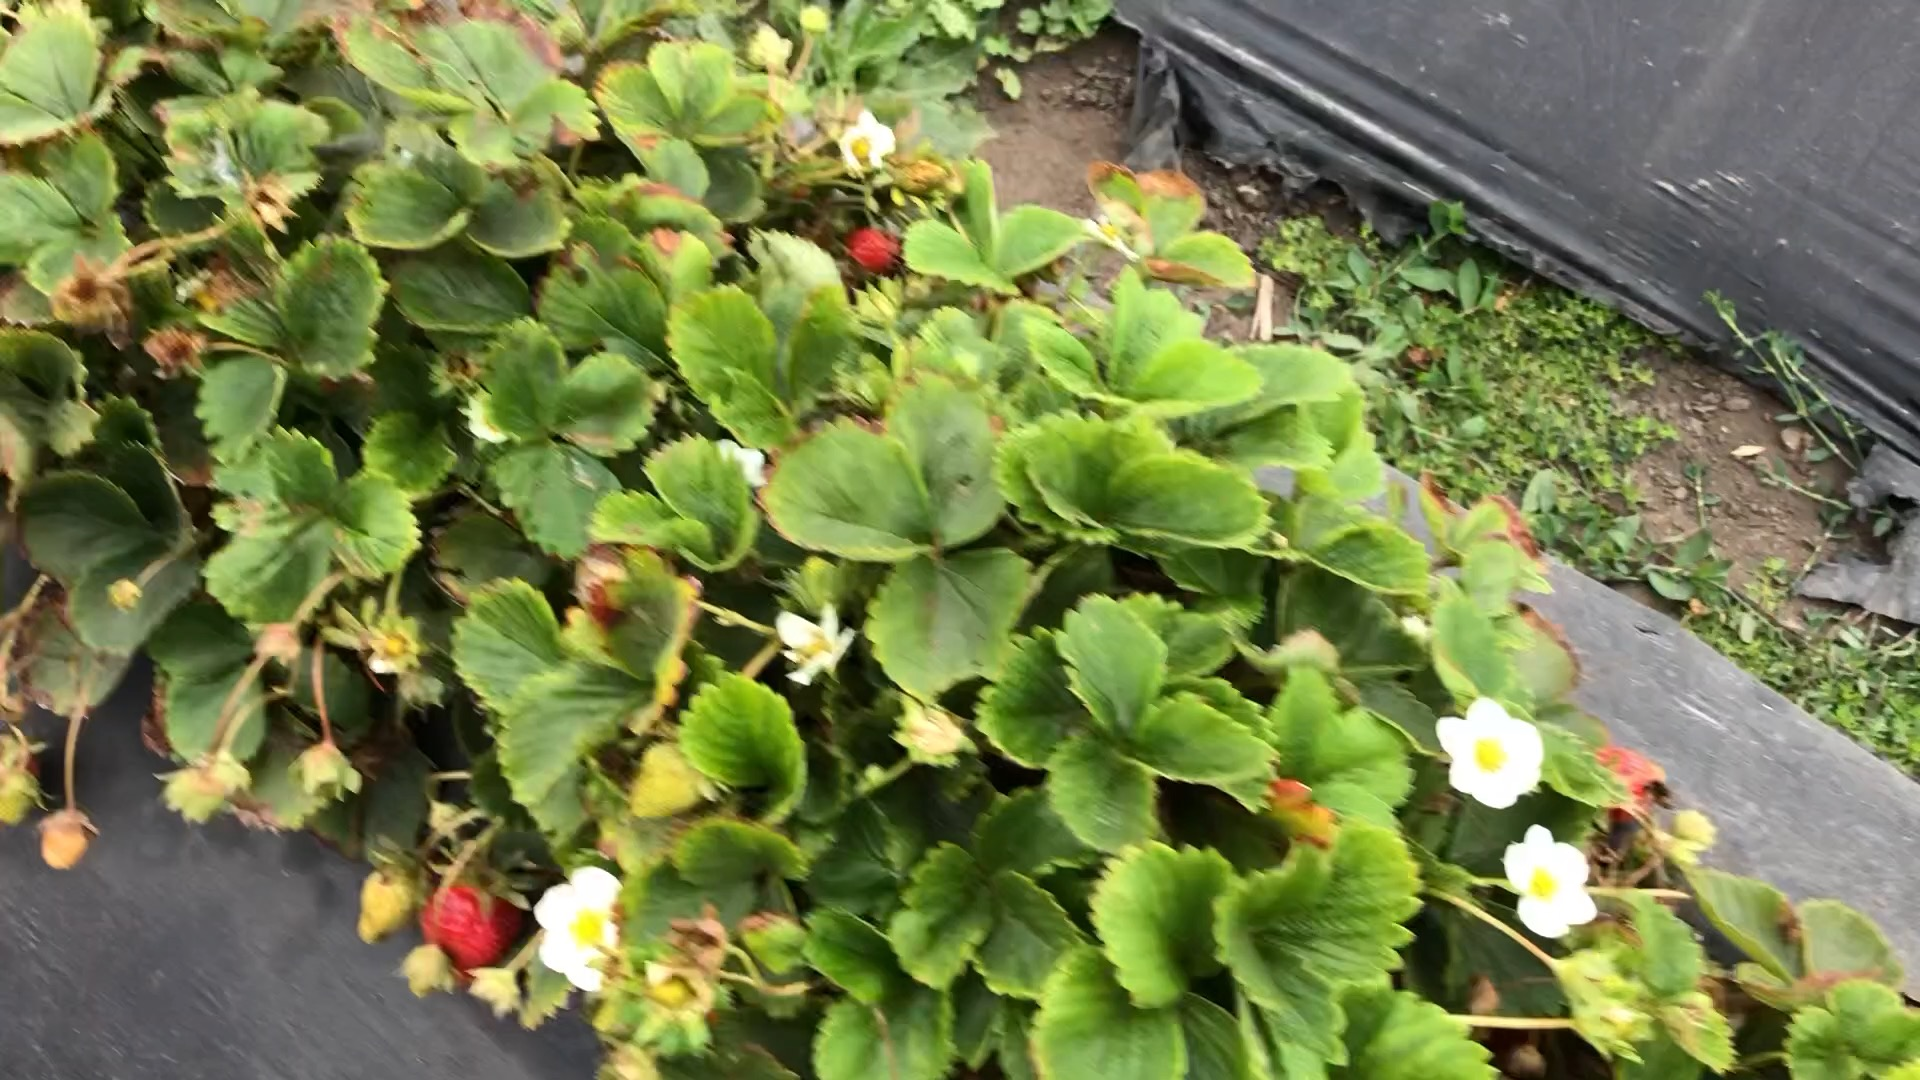ripe_strawberry: (418, 877, 529, 990), (1594, 742, 1669, 822), (847, 225, 909, 276)
unripe_strawberry: (629, 733, 719, 819), (353, 851, 423, 945), (36, 810, 99, 873), (1, 767, 42, 829)
